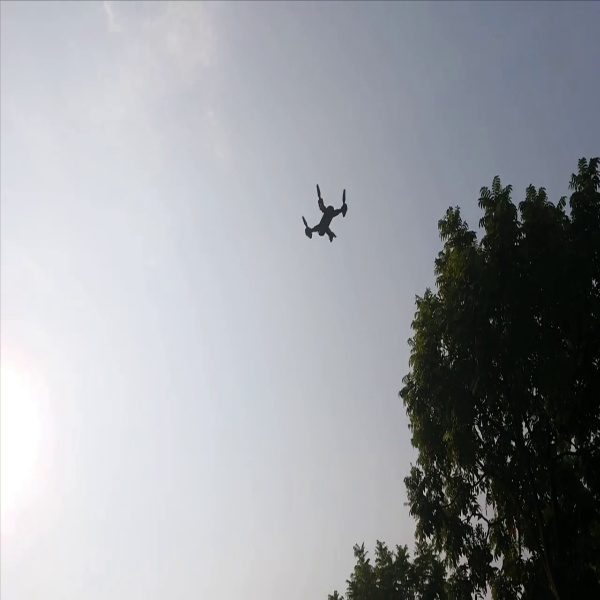drone: (293, 178, 356, 244)
